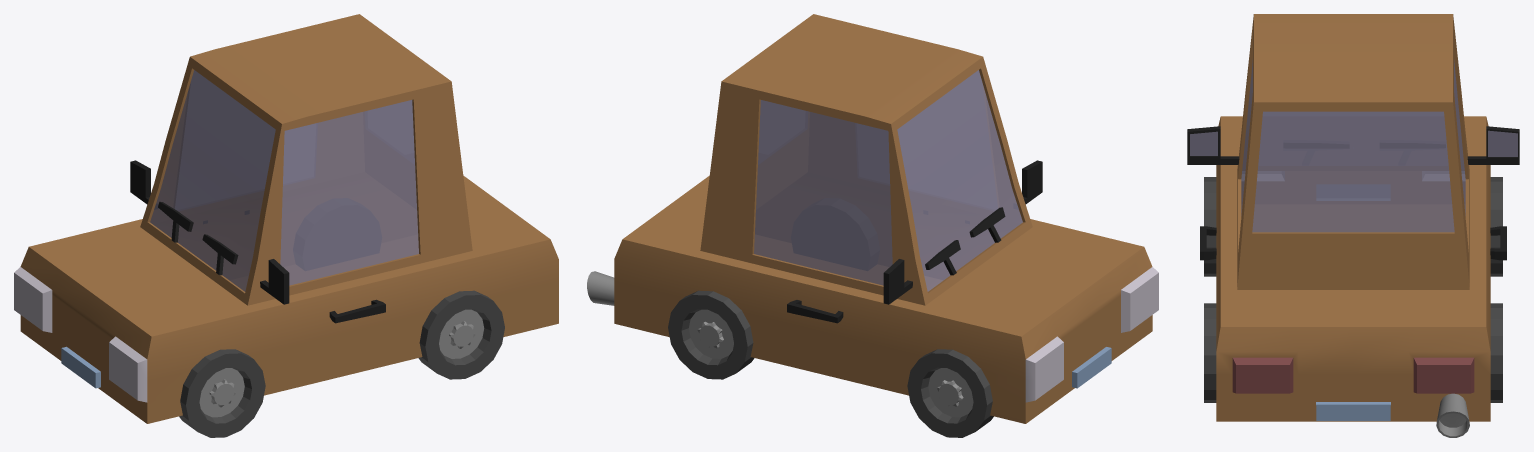
File: Car3.fbx
3 renders of one model, left to right at view 1: azimuth 30°, elevation 25°; view 2: azimuth 150°, elevation 25°; view 3: azimuth 270°, elevation 25°, orthographic. The views are drawn at different scales.
Visible parts, largest first — view 1: Auto, Llanta1, Llanta2, Llanta3; view 2: Auto, Llanta4, Llanta3, Llanta2; view 3: Auto, Llanta2, Llanta3, Llanta1, Llanta4.
Part boxes in pixels (x1,y1,x2,y2): Auto: (14,14,558,423); Llanta1: (179,349,265,437); Llanta2: (418,290,504,379); Llanta3: (293,198,381,270); Auto: (587,14,1158,423); Llanta4: (907,349,993,437); Llanta3: (668,290,754,379); Llanta2: (791,198,879,270); Auto: (1187,14,1519,437); Llanta2: (1204,303,1216,402); Llanta3: (1490,303,1502,402); Llanta1: (1204,177,1216,276); Llanta4: (1490,177,1502,276).
Size of the model in its own units: 172 by 99.27 by 99.27.
